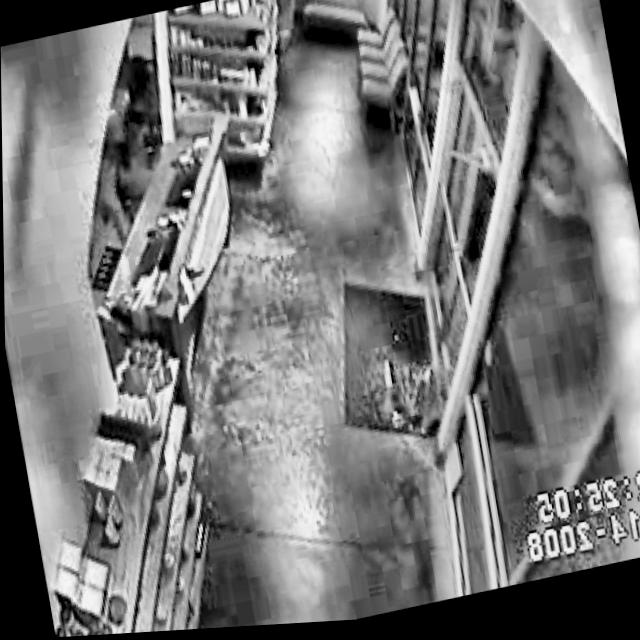burglary: (68, 70, 174, 260)
